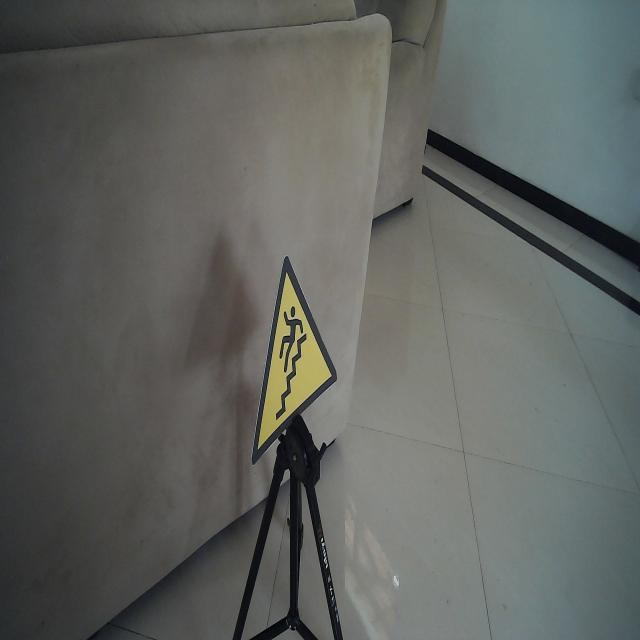stairs: (249, 252, 339, 466)
